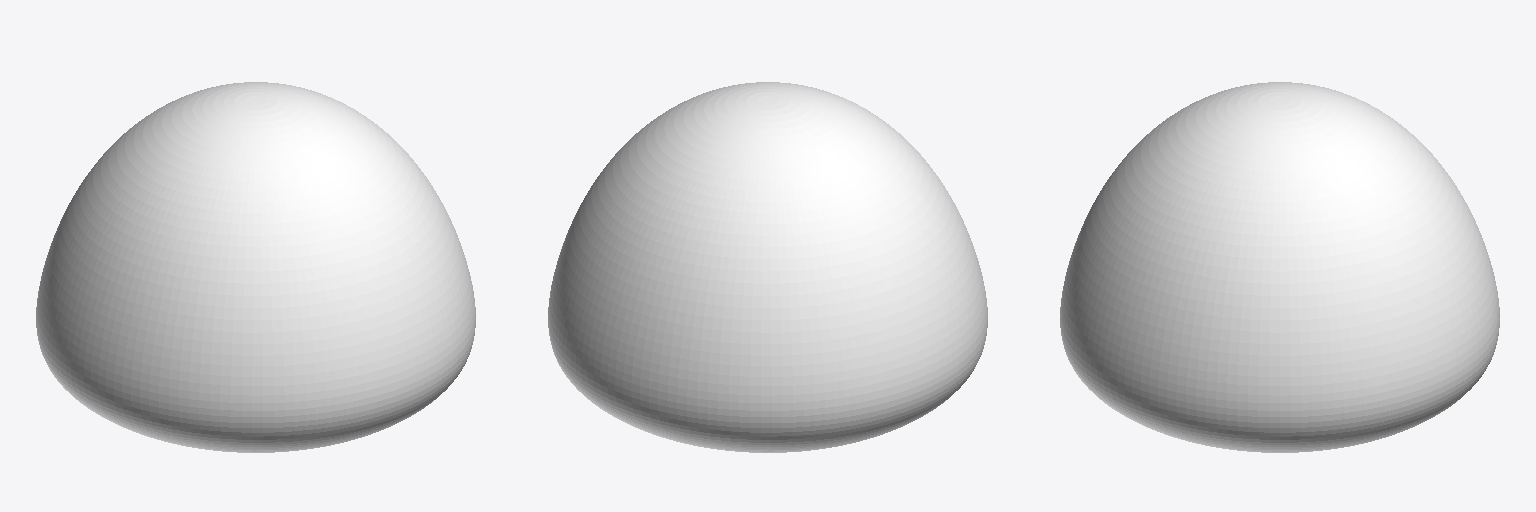
File: shieldAlternate.obj
3 views of the same model, side by side, from view 1: azimuth 30°, elevation 25°; view 2: azimuth 150°, elevation 25°; view 3: azimuth 270°, elevation 25° (orthographic).
Parts seen in each view (by area): view 1: Cone; view 2: Cone; view 3: Cone.
Part boxes in pixels (bbox=[...]): Cone: bbox=[36, 82, 475, 452]; Cone: bbox=[548, 82, 987, 452]; Cone: bbox=[1060, 82, 1499, 452].
Size of the model in its own units: 18 by 14.04 by 18.